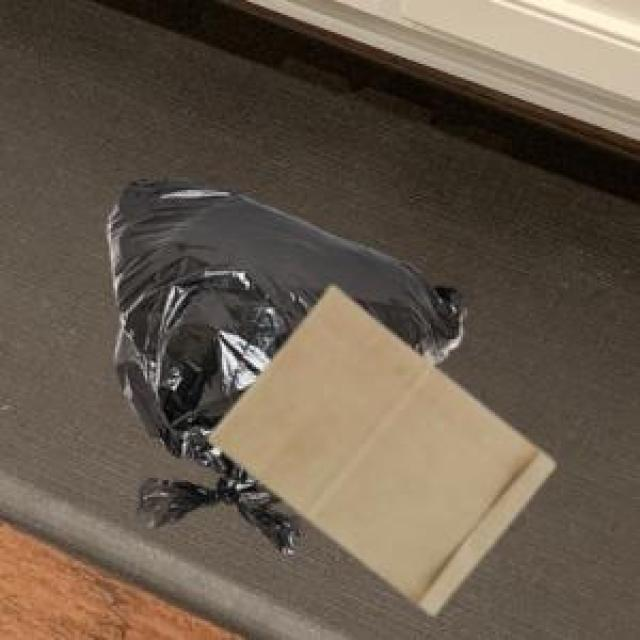miscellaneous trash: (105, 175, 463, 550)
paper: (205, 282, 550, 610)
